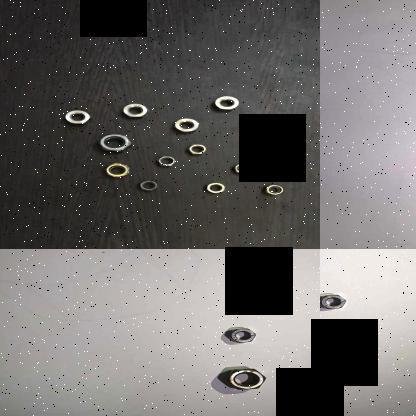NUTS: (217, 366, 271, 390), (320, 331, 358, 356), (221, 324, 263, 346), (94, 130, 134, 152), (101, 160, 138, 178), (118, 100, 153, 118), (320, 289, 351, 309), (62, 107, 94, 126), (212, 92, 244, 110), (244, 117, 278, 133), (270, 142, 308, 156), (174, 115, 204, 132), (202, 180, 228, 194), (184, 142, 212, 154), (230, 161, 256, 173), (265, 182, 287, 196)
